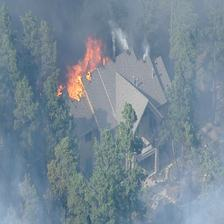fire: (47, 24, 104, 110)
